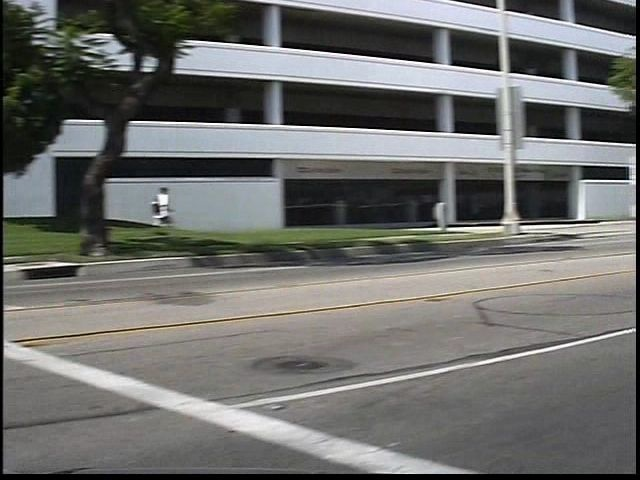person: (168, 178, 196, 246)
